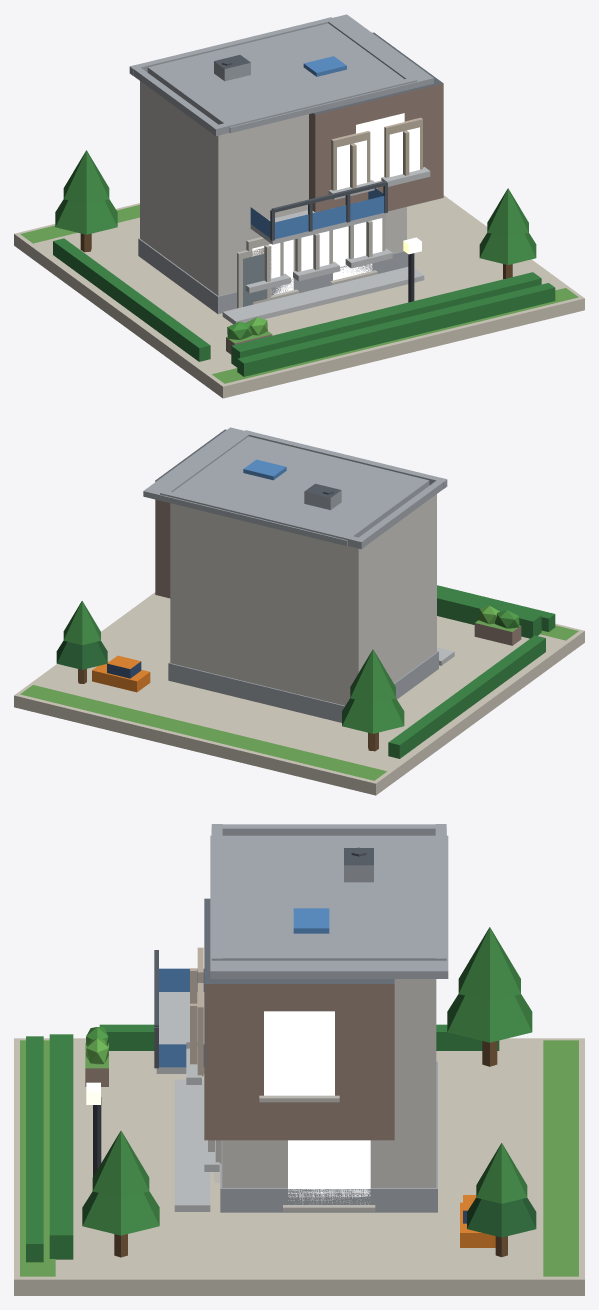
The picture shows the model from 3 angles, top to bottom: view 1: azimuth 30°, elevation 25°; view 2: azimuth 150°, elevation 25°; view 3: azimuth 270°, elevation 25°; orthographic projection. The views are drawn at different scales.
Parts seen in each view (by area): view 1: b03; view 2: b03; view 3: b03.
Part boxes in pixels (box(x1,y1,x2,y2)): b03: box(14, 14, 584, 398); b03: box(14, 427, 584, 795); b03: box(14, 824, 584, 1295).
Size of the model in its own units: 0.96 by 0.539 by 0.96.
